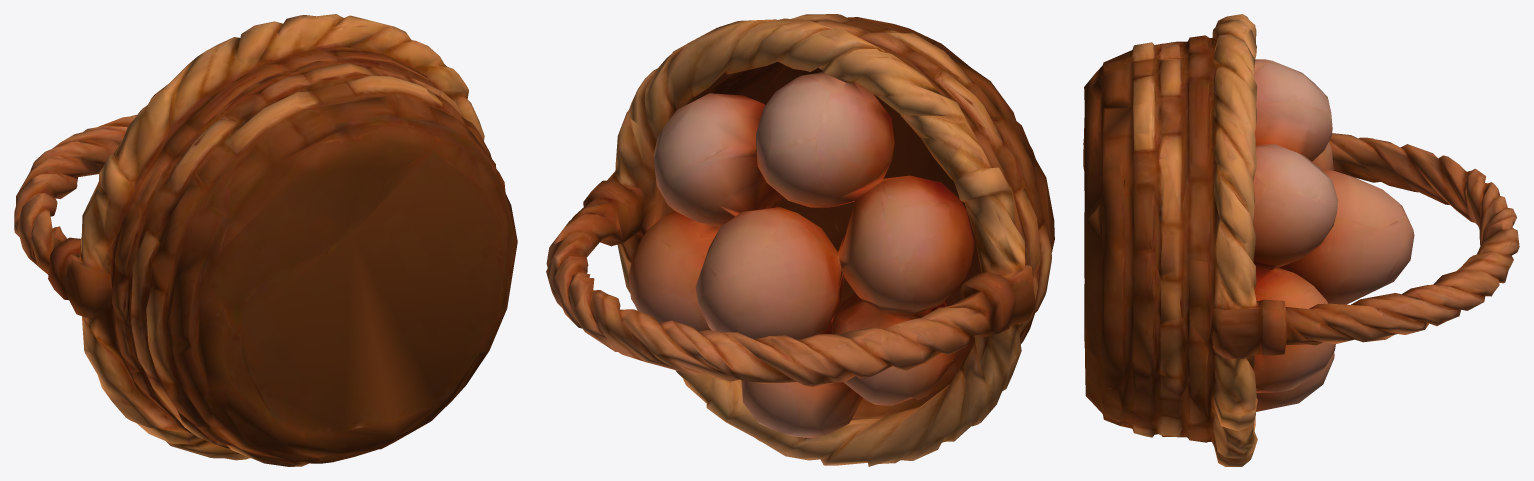
3 renders of one model, left to right at view 1: azimuth 30°, elevation 25°; view 2: azimuth 150°, elevation 25°; view 3: azimuth 270°, elevation 25°, orthographic. The views are drawn at different scales.
Parts seen in each view (by area): view 1: material; view 2: material; view 3: material.
Boxes of the visible parts, x1,y1,x2,y2 form: material: (14, 14, 517, 466); material: (546, 14, 1054, 466); material: (1083, 14, 1519, 466).
Bounding box in the file's own units: 1 × 0.984 × 0.9478.
1 material, 1 textured.
